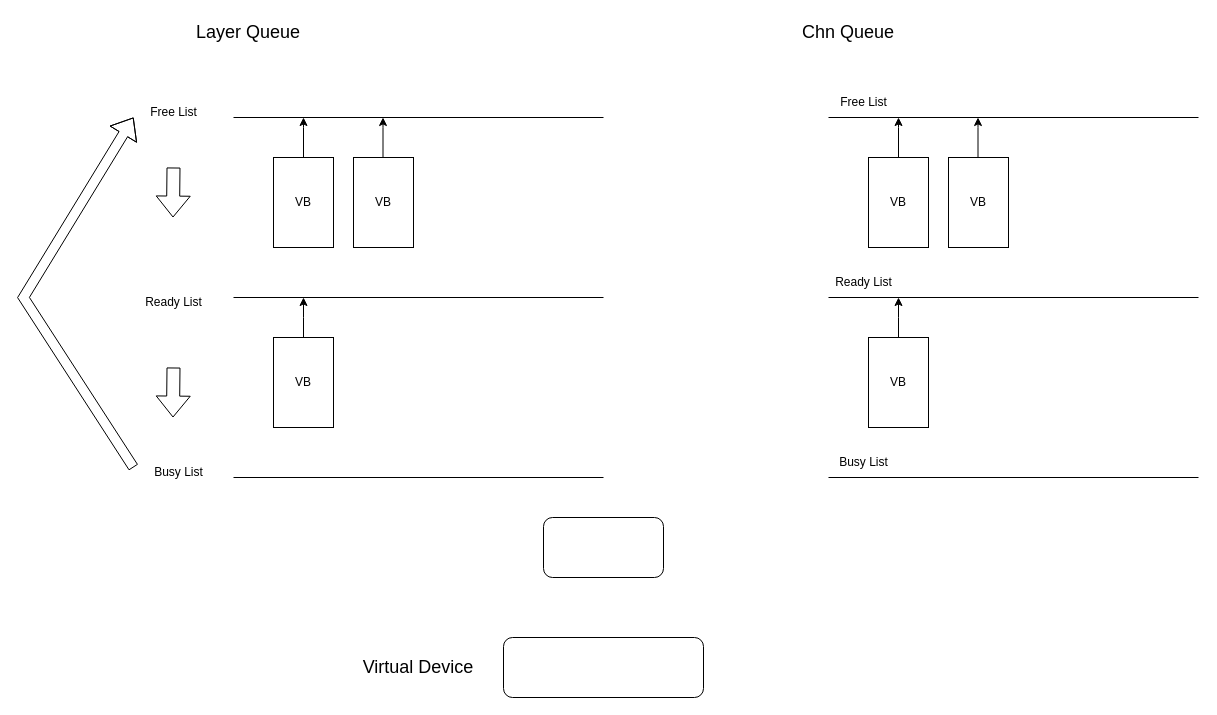
This 1217x715 diagram has some shape labels left out. The centre of each missing label's shape, as x and y in pixels:
"vgu_job_cb" belongs at point 603,547.
"voDevSofTimerFunc" belongs at point 603,667.
